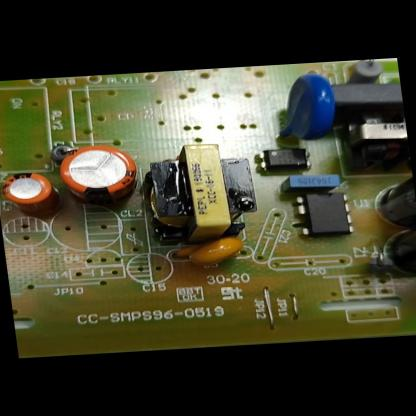Cap1: (51, 133, 143, 207)
Cap2: (0, 165, 67, 224)
Cap3: (362, 164, 415, 227)
Cap4: (363, 209, 415, 283)
MOSFET: (290, 186, 356, 244)
Mov: (267, 66, 346, 146)
Resistor: (344, 59, 390, 87)
Transformer: (131, 136, 267, 254), (334, 103, 411, 174)
